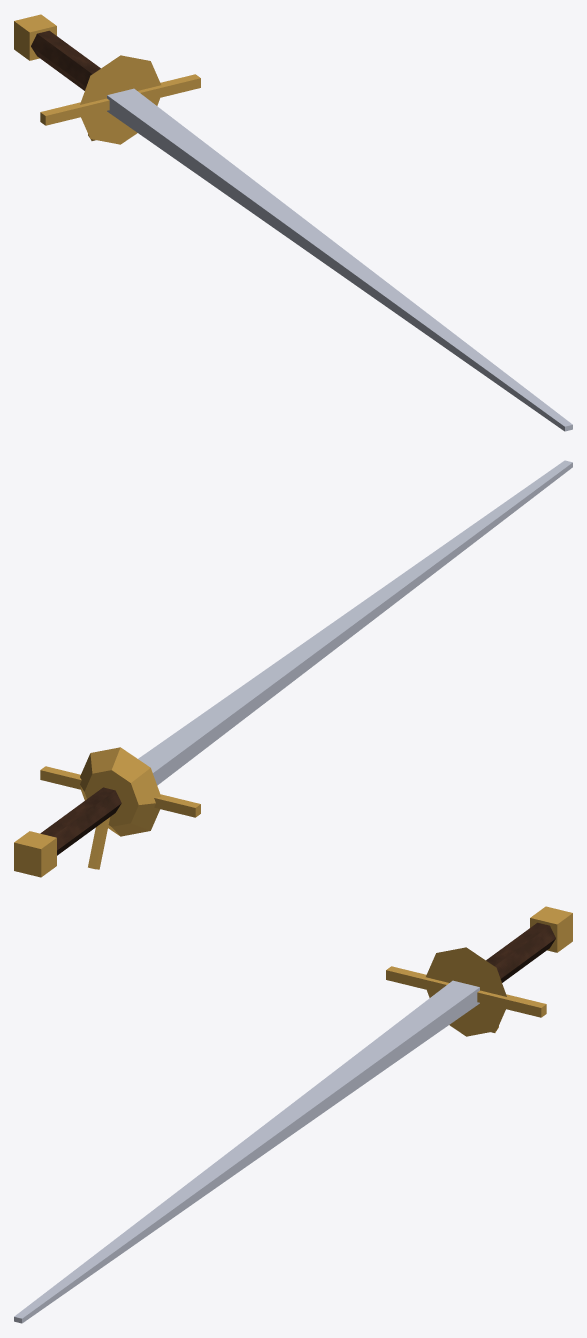
File: rapier.glb
3 views of the same model, one above another, from view 1: azimuth 30°, elevation 25°; view 2: azimuth 150°, elevation 25°; view 3: azimuth 330°, elevation 25° (orthographic).
Parts seen in each view (by area): view 1: rapier; view 2: rapier; view 3: rapier.
Boxes of the visible parts, left/top/right/bottom form: rapier: left=14, top=14, right=572, bottom=431; rapier: left=14, top=460, right=572, bottom=877; rapier: left=14, top=906, right=572, bottom=1323.
Size of the model in its own units: 0.2 by 0.127 by 1.21.
Materials: 3 (1 with a texture image).
